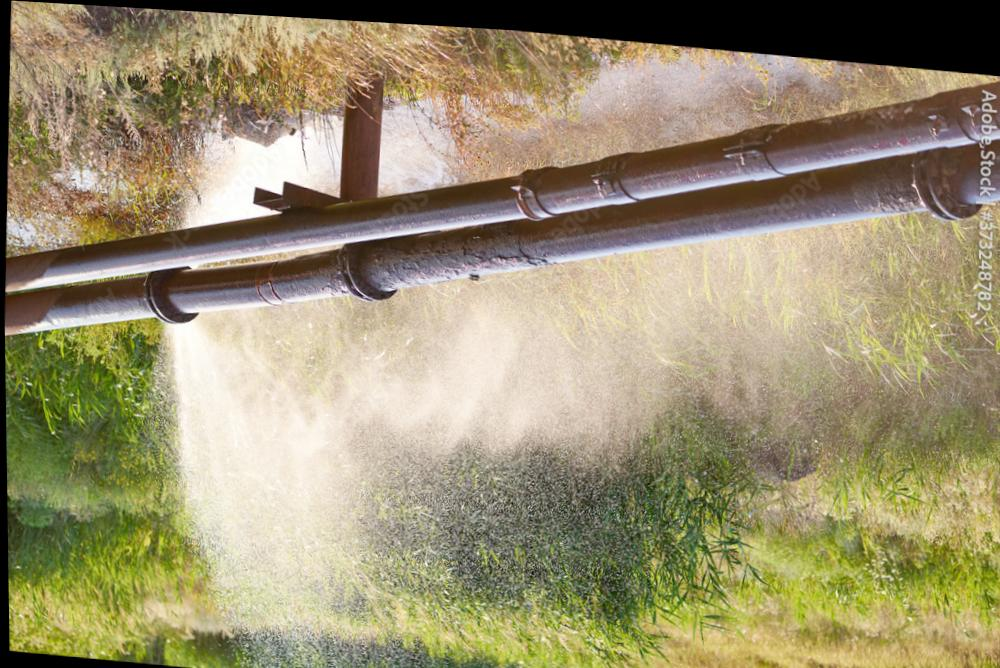leak: (164, 222, 818, 668), (183, 115, 339, 230)
